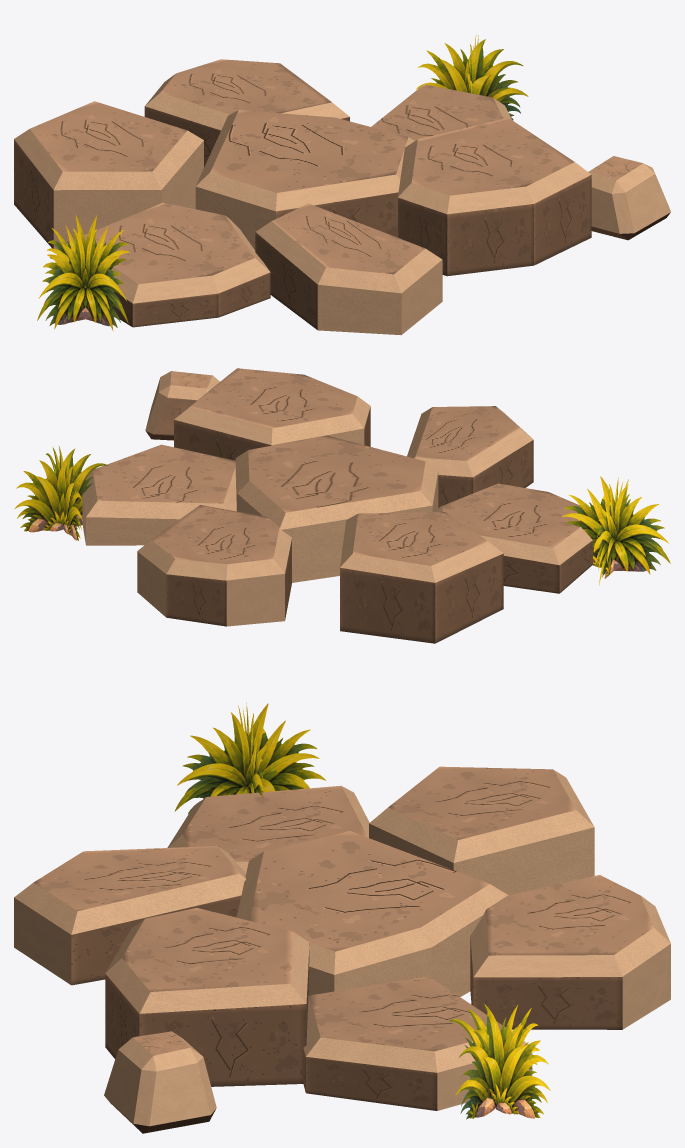
File: Rock3.fbx
3 renders of one model, top to bottom at view 1: azimuth 30°, elevation 25°; view 2: azimuth 150°, elevation 25°; view 3: azimuth 270°, elevation 25°, orthographic. The views are drawn at different scales.
Parts seen in each view (by area): view 1: Rock3_Body, Rock3_Grass; view 2: Rock3_Body, Rock3_Grass; view 3: Rock3_Body, Rock3_Grass.
Boxes of the visible parts, box(x1,y1,x2,y2) form: Rock3_Body: box(14, 59, 670, 335); Rock3_Grass: box(37, 34, 528, 330); Rock3_Body: box(82, 368, 592, 643); Rock3_Grass: box(14, 445, 670, 585); Rock3_Body: box(14, 766, 670, 1133); Rock3_Grass: box(175, 702, 550, 1119).
Size of the model in its own units: 1.8 by 0.2907 by 1.44.
2 materials, 2 textured.
